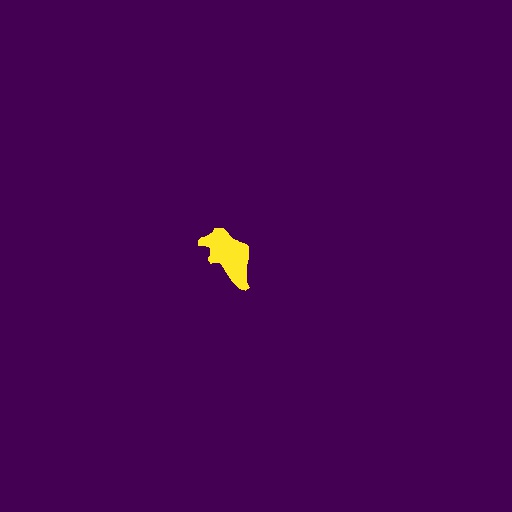Menigiomia_tumour: (198, 228, 250, 291)
